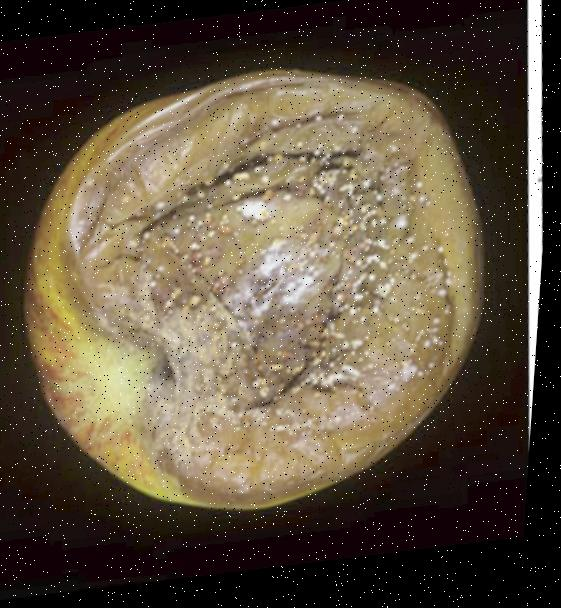ROT: (0, 37, 503, 543)
